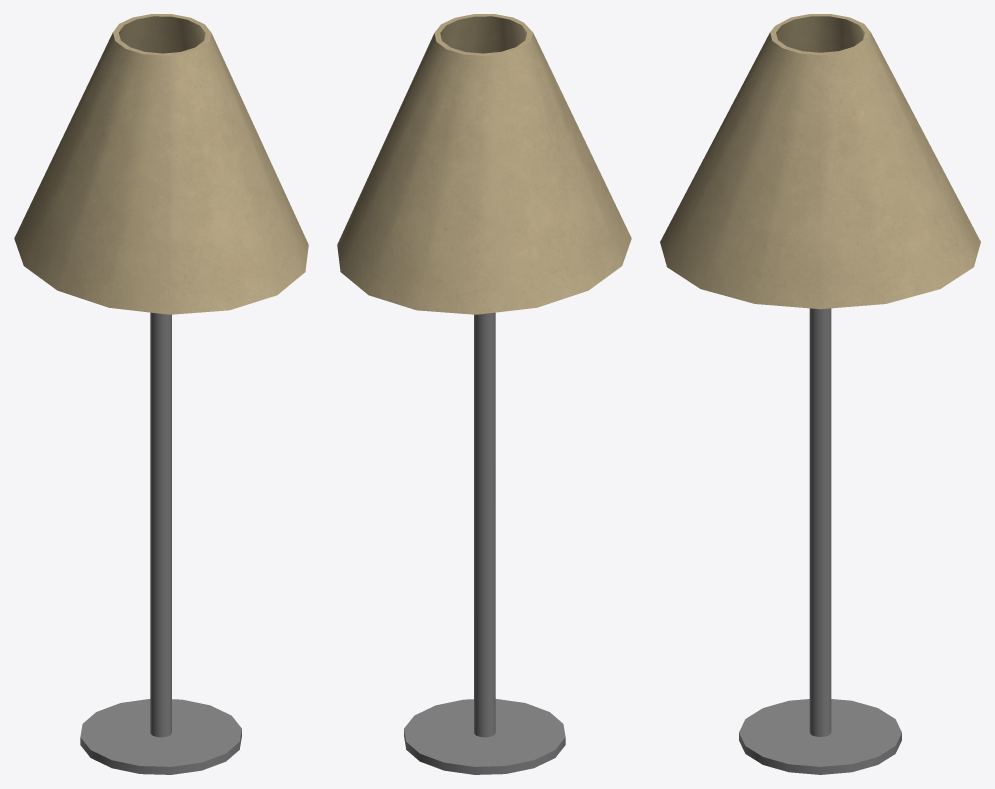
File: real_fixed_lamp.FBX
3 views of the same model, side by side, from view 1: azimuth 30°, elevation 25°; view 2: azimuth 150°, elevation 25°; view 3: azimuth 270°, elevation 25° (orthographic).
Parts seen in each view (by area): view 1: Circle001; view 2: Circle001; view 3: Circle001.
Boxes of the visible parts, x1,y1,x2,y2 form: Circle001: [14, 14, 308, 774]; Circle001: [337, 14, 631, 774]; Circle001: [660, 14, 980, 774].
Bounding box in the file's own units: 55.8 × 153 × 62.9.
